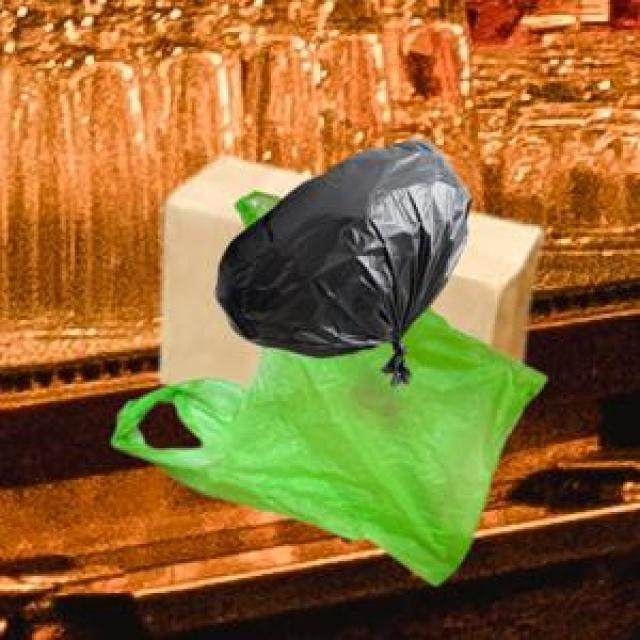miscellaneous trash: (211, 134, 467, 382)
paper: (156, 154, 538, 384)
